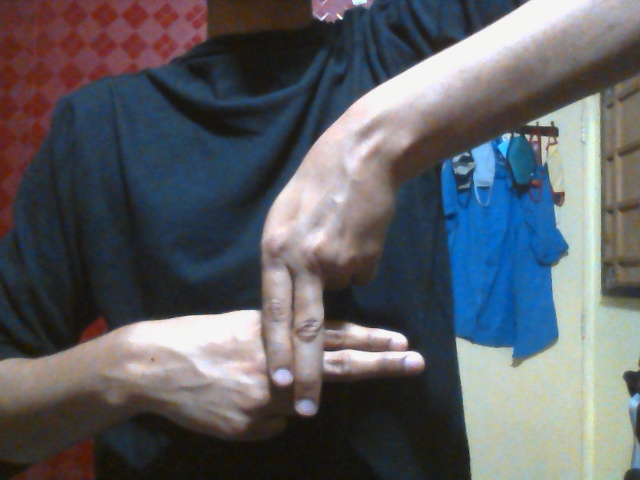F: (138, 157, 427, 442)
